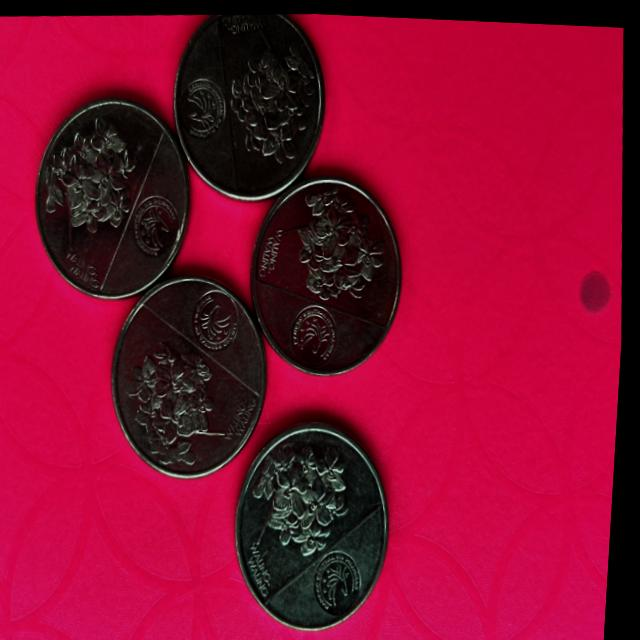1_New_Back: (251, 417, 379, 548), (45, 107, 150, 261), (282, 171, 397, 300), (230, 22, 323, 172), (135, 339, 243, 464)
